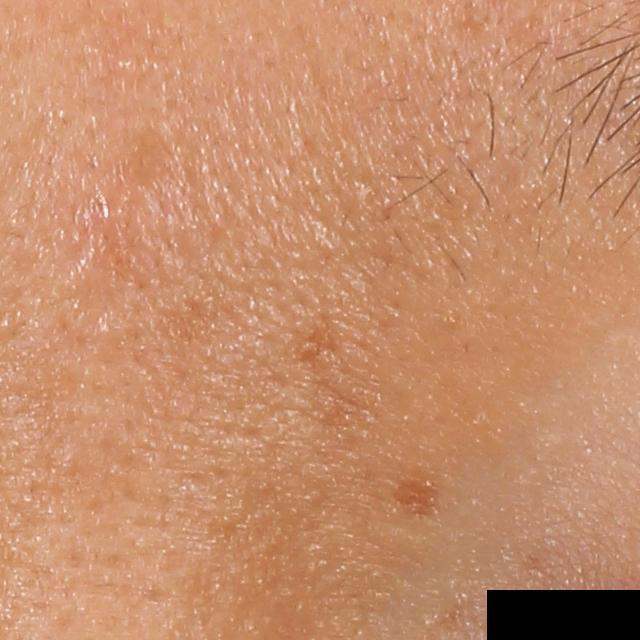melasma: (291, 321, 335, 375), (392, 465, 436, 516)
